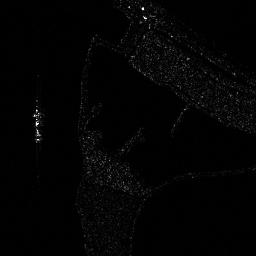ship: (31, 97, 44, 142)
